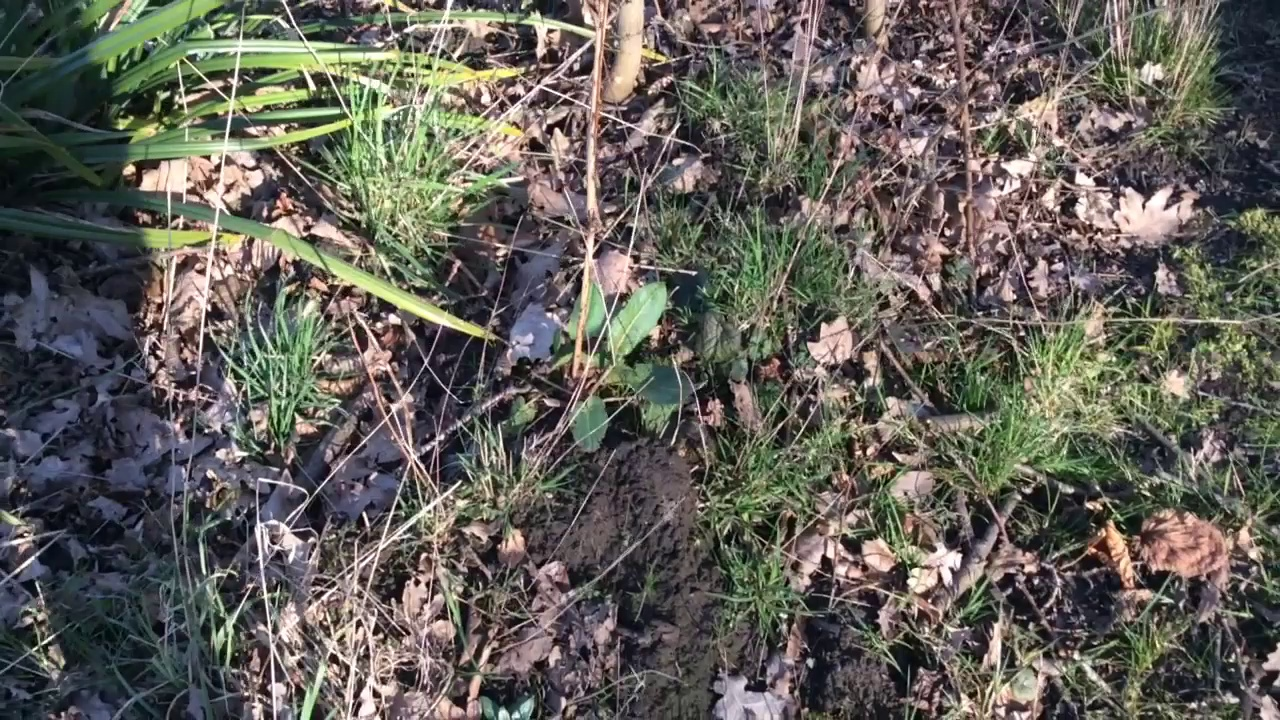rumex: (510, 275, 691, 451)
